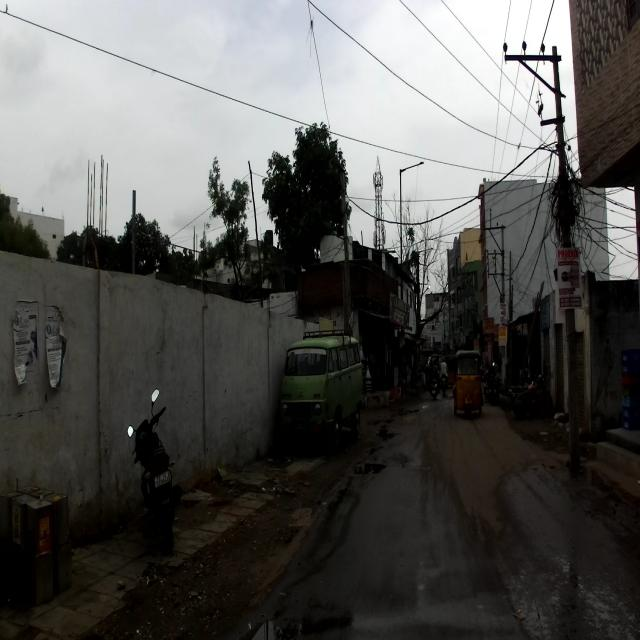autorickshaw: (452, 346, 484, 416)
car: (280, 328, 363, 449)
motorcycle: (126, 384, 182, 554)
scooter: (428, 376, 439, 398)
